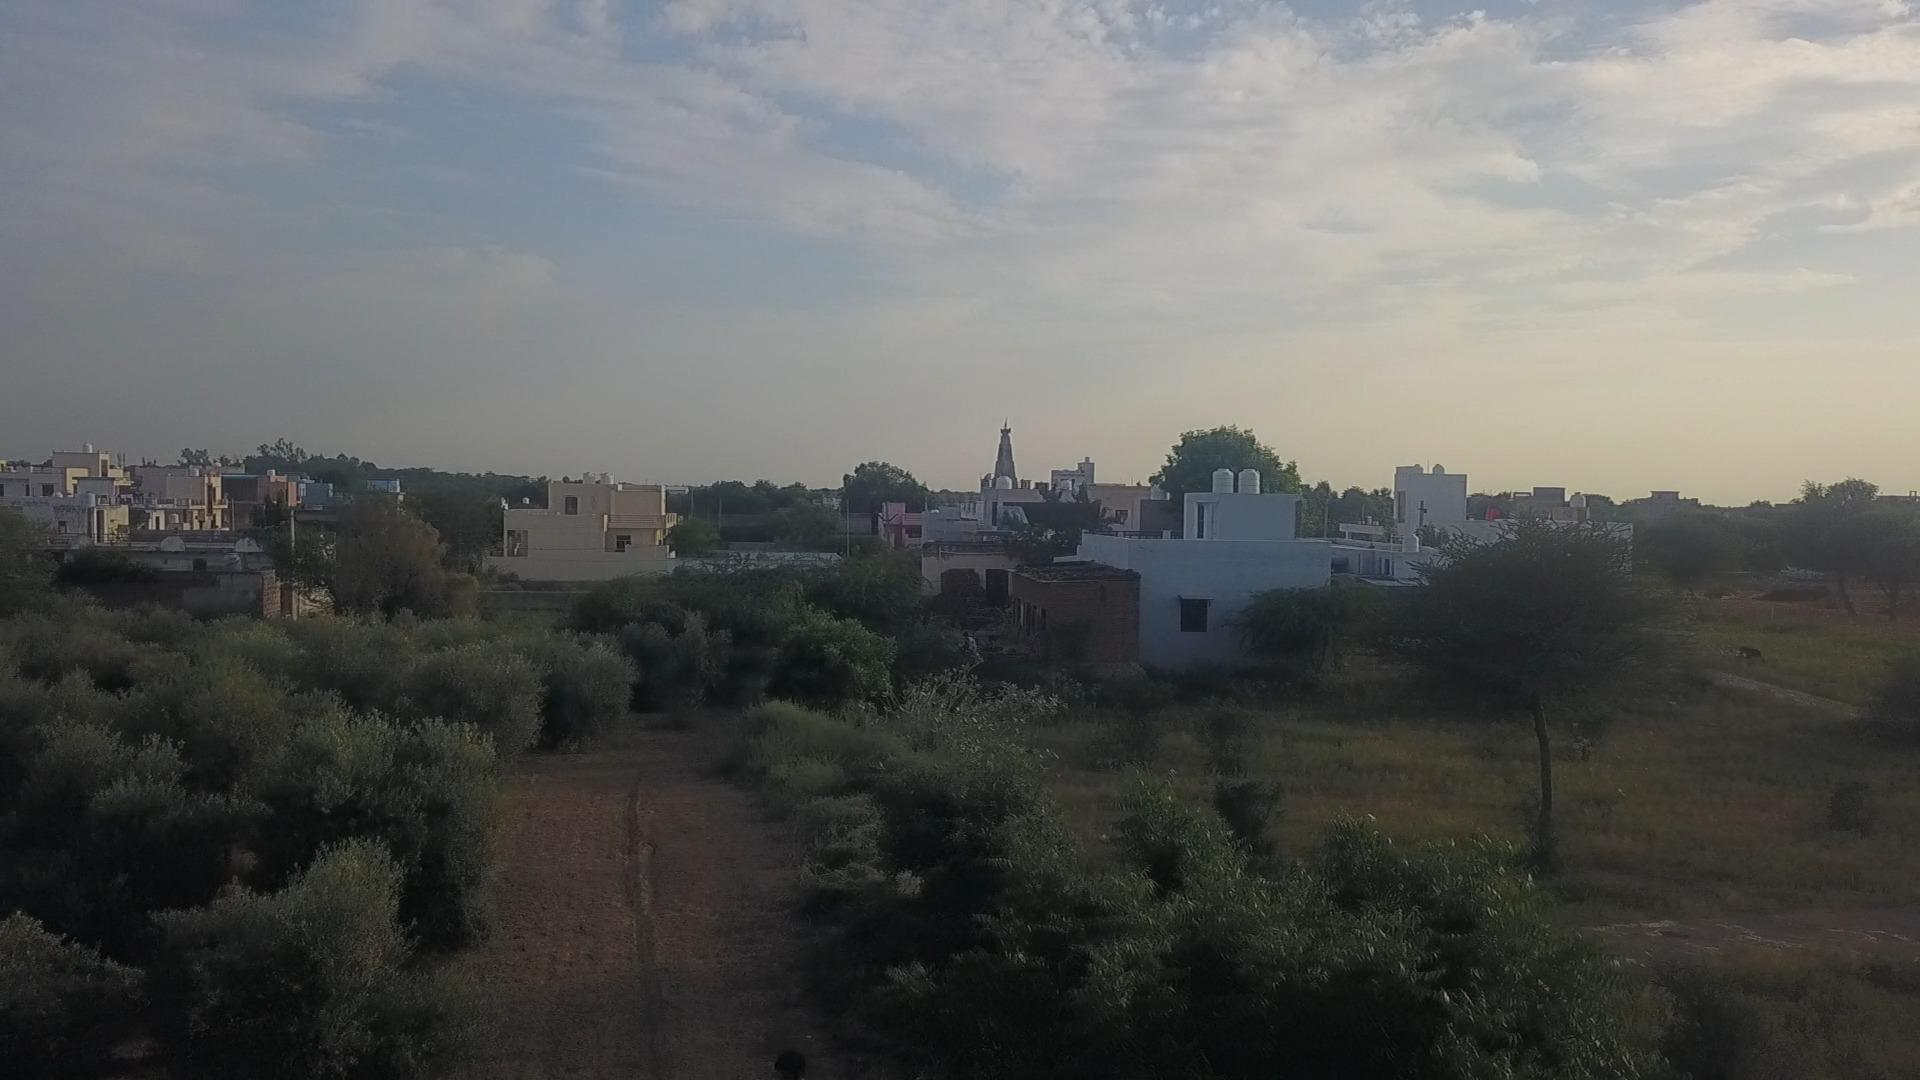canopy: (729, 673, 1685, 1079), (0, 538, 572, 1079)
road: (484, 729, 845, 1079)
